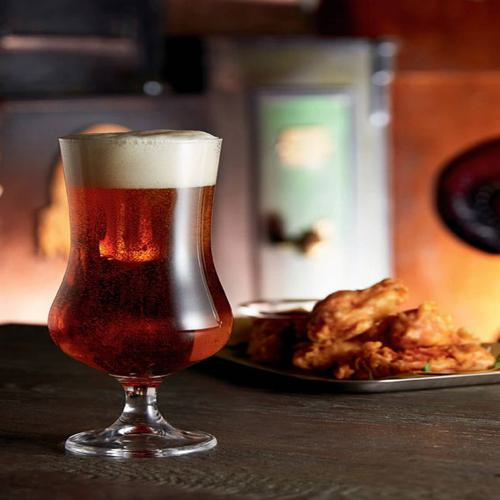copa: (48, 130, 226, 458)
